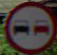No overtake: (6, 2, 53, 48)
